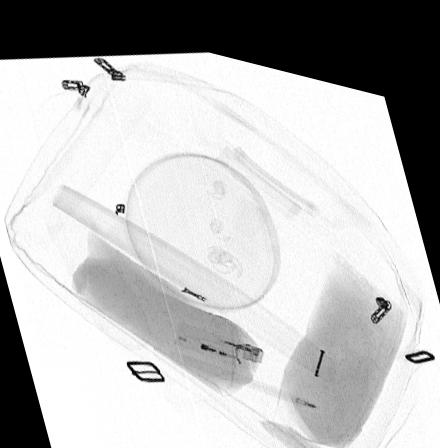Lighter: (175, 311, 263, 359)
